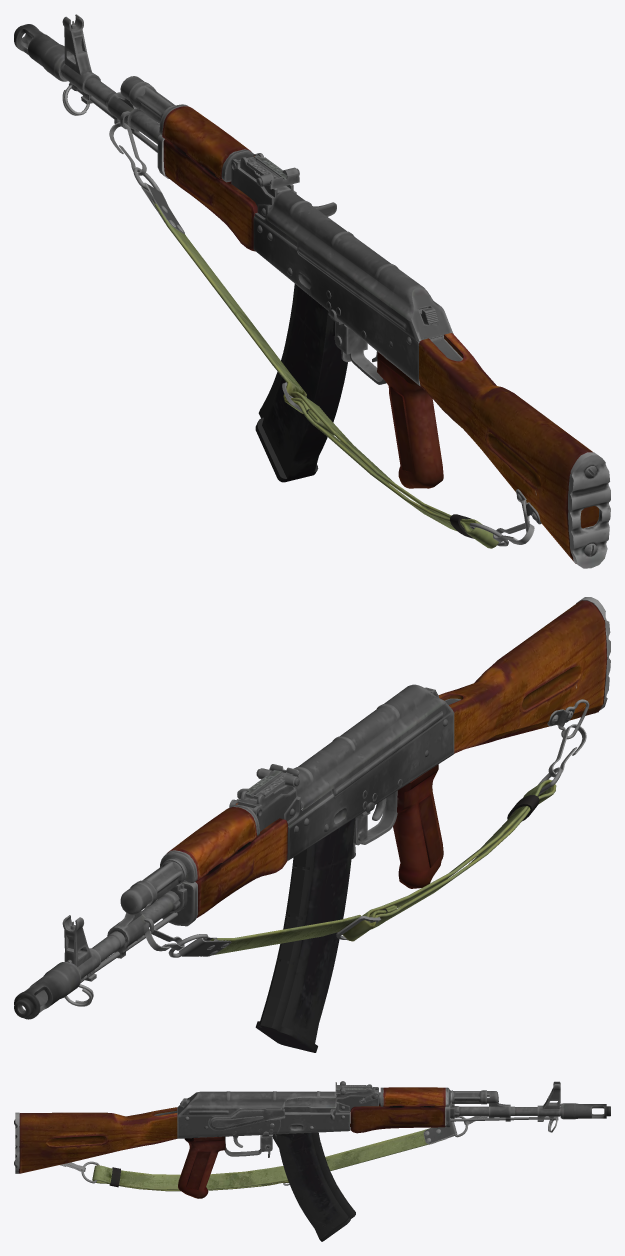
File: akm.glb
The picture shows the model from 3 angles, top to bottom: view 1: azimuth 30°, elevation 25°; view 2: azimuth 150°, elevation 25°; view 3: azimuth 270°, elevation 25°; orthographic projection. The views are drawn at different scales.
Parts seen in each view (by area): view 1: AK, mag, Bend; view 2: AK, mag, Bend; view 3: AK, Bend, mag, bolt.
Part boxes in pixels (x1,y1,x2,y2): AK: (14,14,610,568); mag: (255,284,347,482); Bend: (109,122,534,548); AK: (14,597,610,1019); mag: (255,818,355,1052); Bend: (145,724,586,957); AK: (14,1081,610,1198); Bend: (60,1116,488,1191); mag: (272,1132,355,1241); bolt: (282,1094,336,1120).
Size of the model in its own units: 1.28 by 3.84 by 13.38.
1 material, 1 textured.
